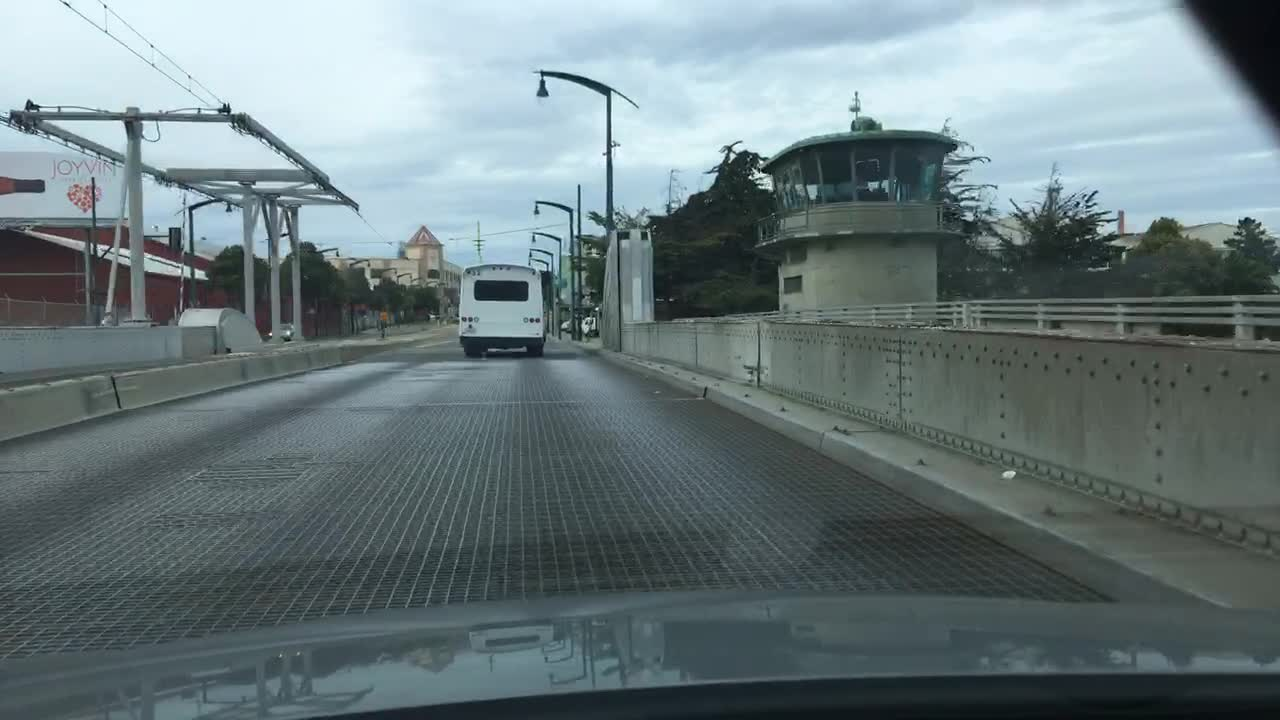bus: (454, 261, 550, 356)
car: (266, 323, 302, 342), (575, 313, 597, 339), (560, 313, 577, 334)
